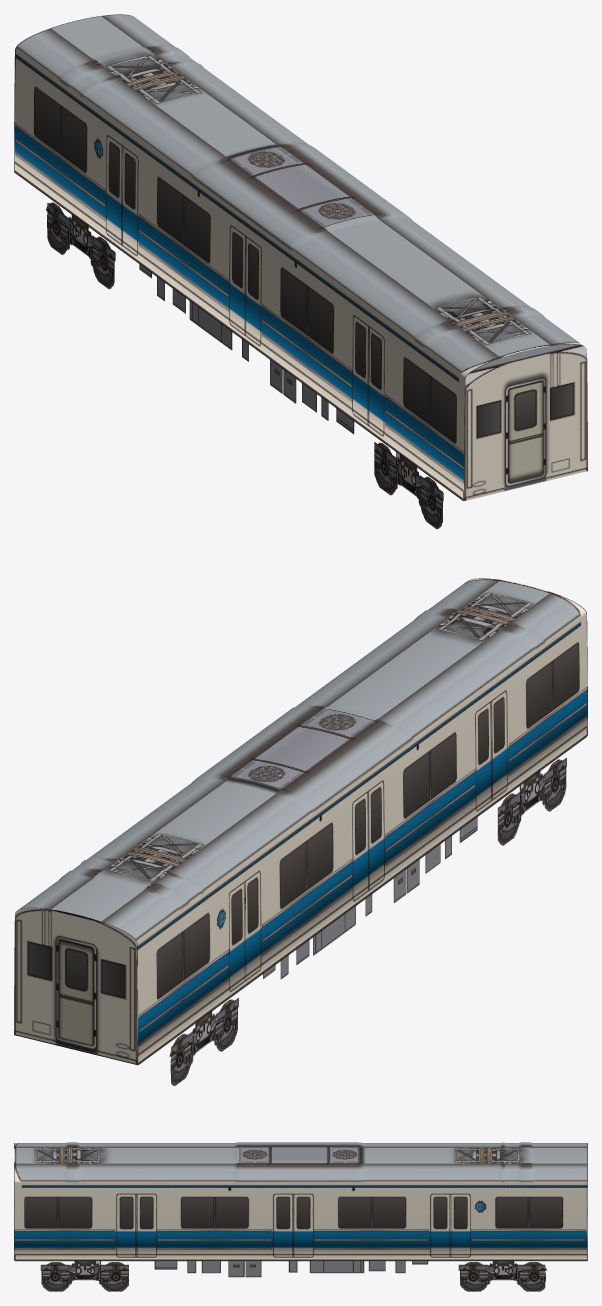
File: car2.glb
3 views of the same model, one above another, from view 1: azimuth 30°, elevation 25°; view 2: azimuth 150°, elevation 25°; view 3: azimuth 270°, elevation 25° (orthographic). The views are drawn at different scales.
Visible parts, largest first — view 1: izuhakone-5000-car2; view 2: izuhakone-5000-car2; view 3: izuhakone-5000-car2.
Part boxes in pixels (x1,y1,x2,y2): izuhakone-5000-car2: [14, 14, 587, 529]; izuhakone-5000-car2: [14, 578, 587, 1086]; izuhakone-5000-car2: [14, 1142, 587, 1291].
Size of the model in its own units: 2.85 by 4.08 by 18.
Materials: 6 (5 with a texture image).
